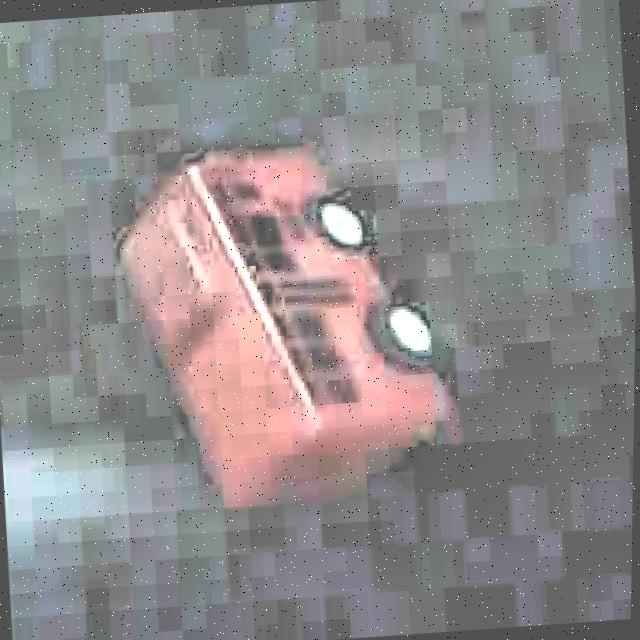bus: (96, 125, 471, 520)
